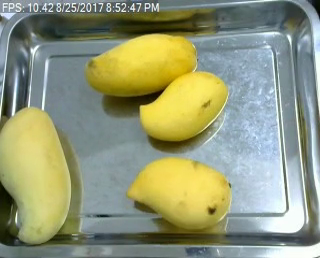Mango: (0, 104, 70, 243), (129, 155, 233, 232), (86, 30, 201, 98), (137, 69, 232, 144)
